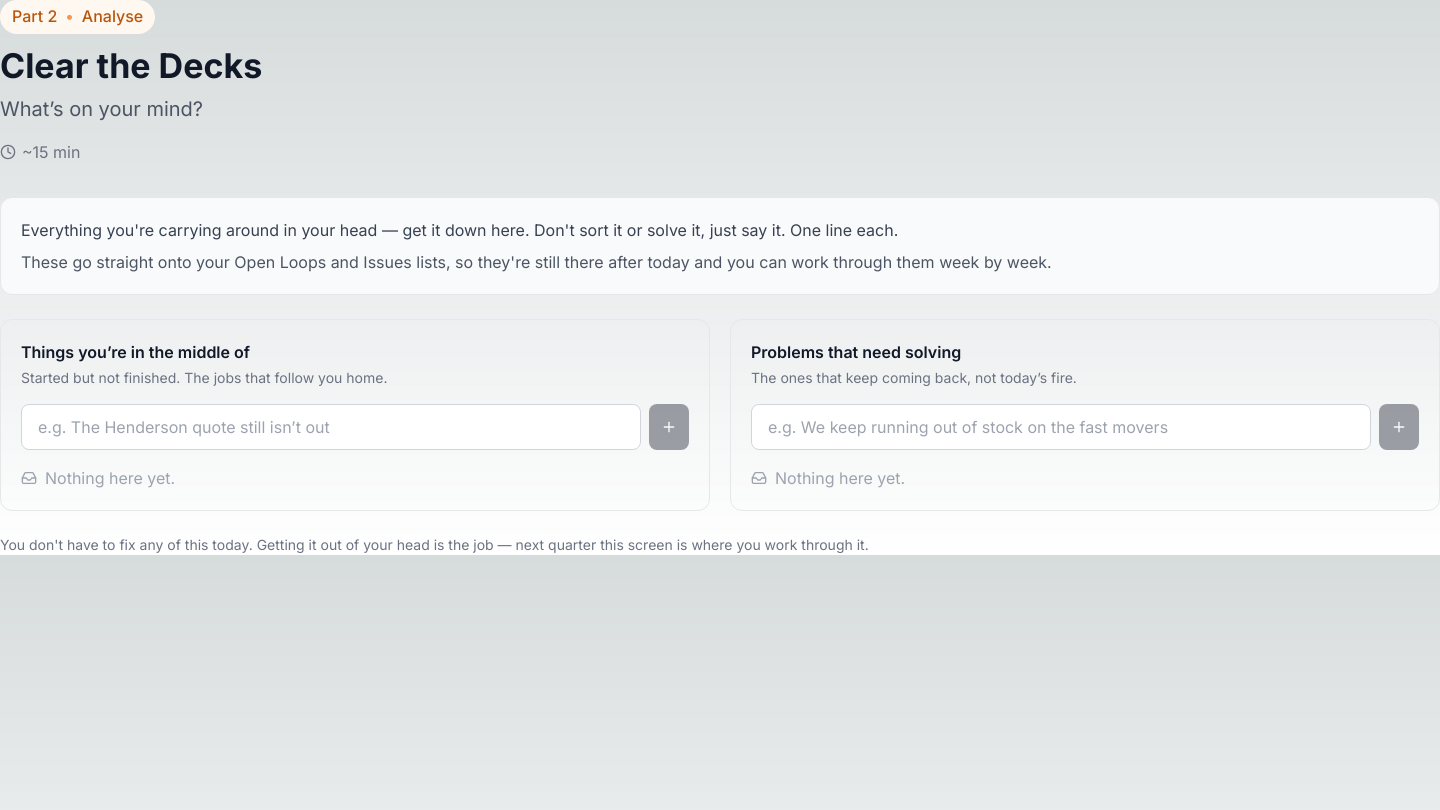
Scenario: step 5 on screen › puts a captured line on the CLIENT’s list, not the coach’s
The width and height of the screenshot is (1440, 810).
Type "The Henderson quote still isn’t out" into the field with placeholder "e.g. The Henderson quote still isn’t out".
click(331, 427); type("The Henderson quote still isn’t out")  # box 21,404 -> 641,450
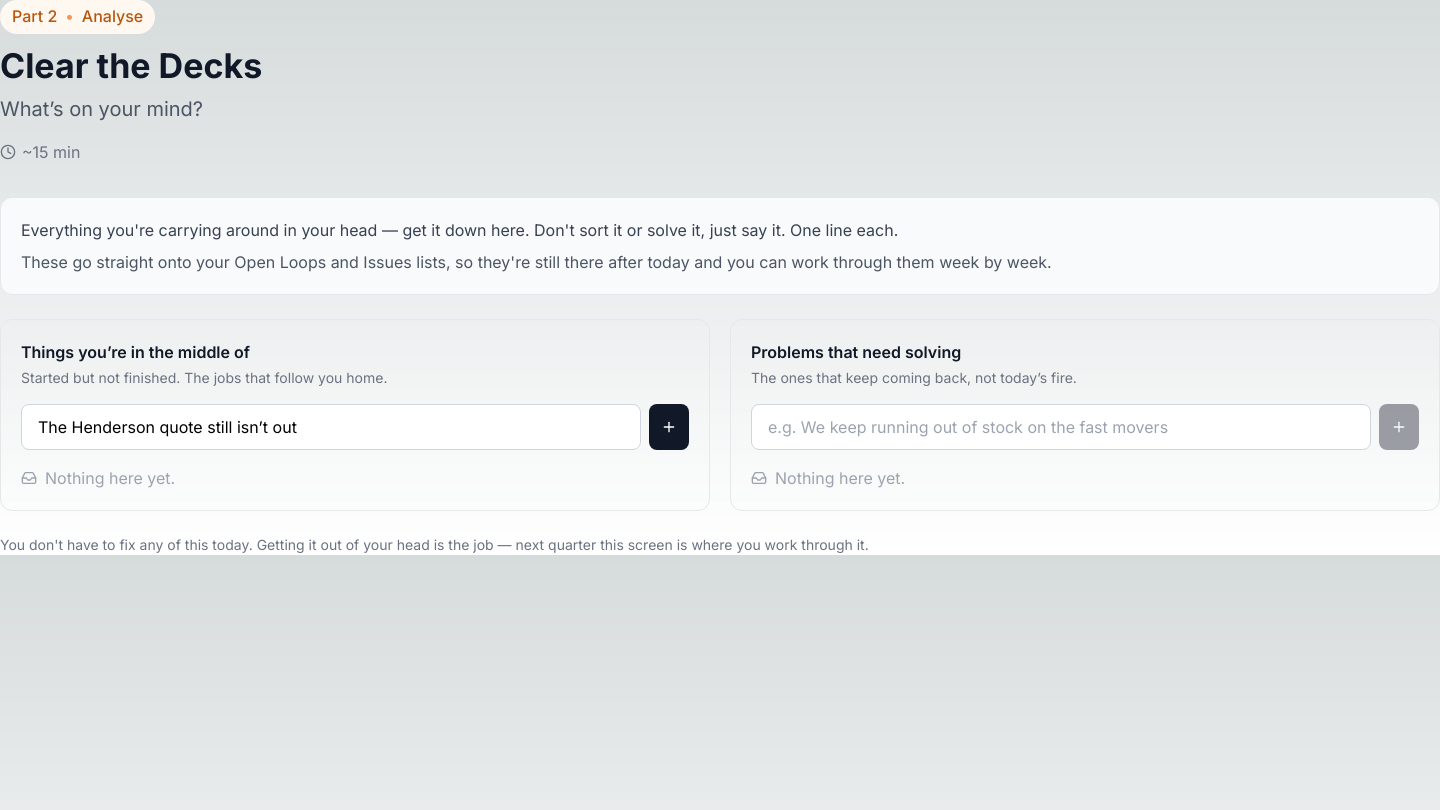
Click the button named "Add to Open Loops".
click(669, 427)  # box 649,404 -> 689,450
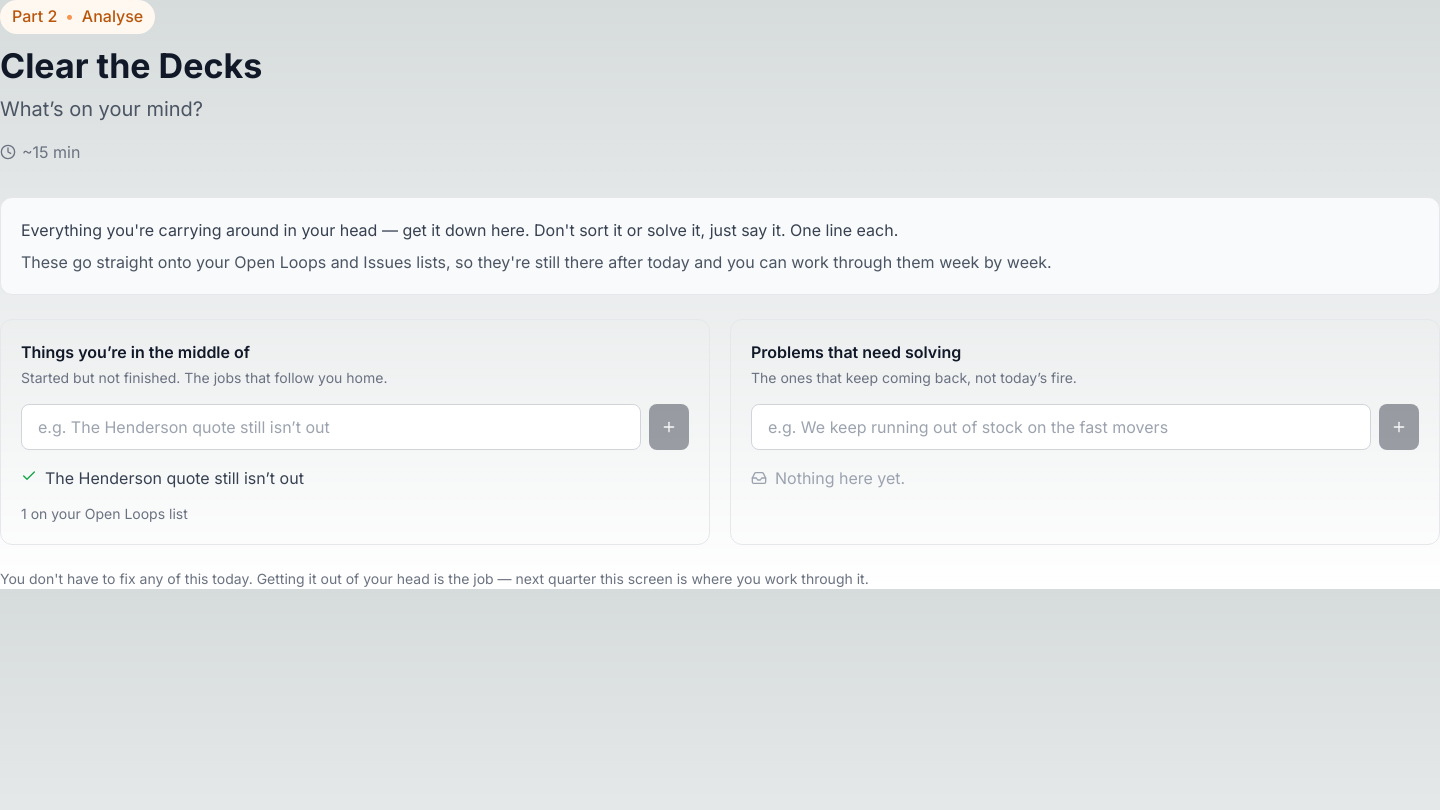
Expected: the text "The Henderson quote still isn’t out" is shown, 45,466 -> 304,492
